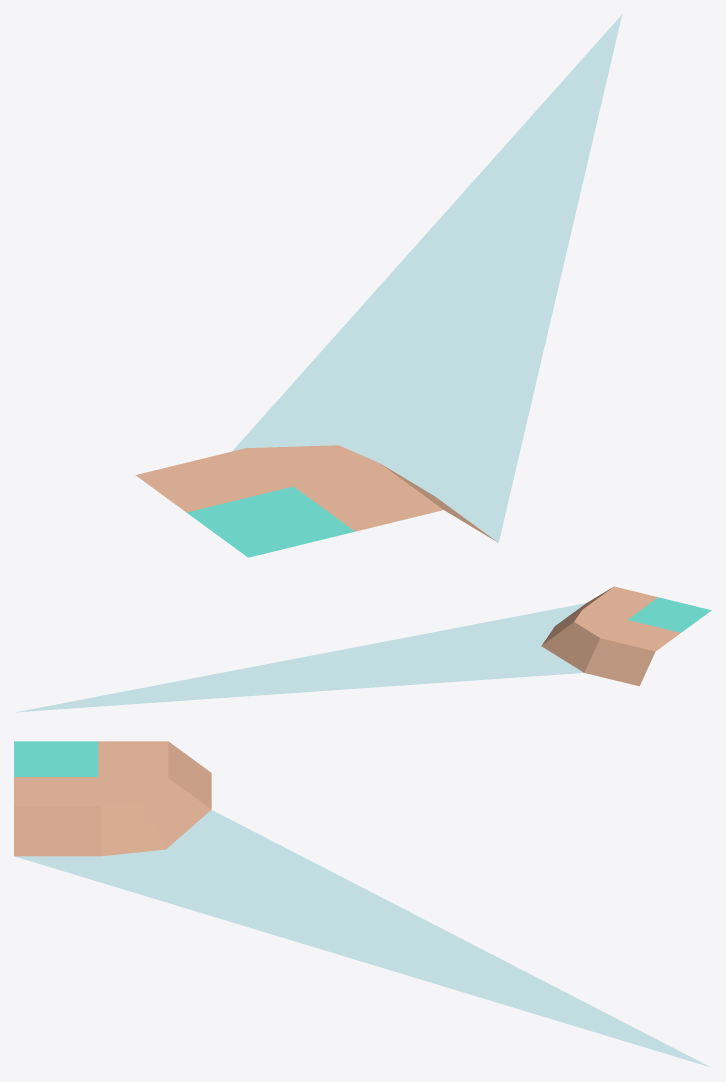
Rendered from ground_riverCornerSmall.glb.
3 renders of one model, top to bottom at view 1: azimuth 30°, elevation 25°; view 2: azimuth 150°, elevation 25°; view 3: azimuth 270°, elevation 25°, orthographic. The views are drawn at different scales.
Parts seen in each view (by area): view 1: ground_riverCornerSmall; view 2: ground_riverCornerSmall; view 3: ground_riverCornerSmall.
Boxes of the visible parts, x1=… form: ground_riverCornerSmall: x1=135, y1=14, x2=622, y2=557; ground_riverCornerSmall: x1=16, y1=586, x2=711, y2=712; ground_riverCornerSmall: x1=14, y1=741, x2=710, y2=1067.
Bounding box in the file's own units: 1 × 0.0501 × 1.
